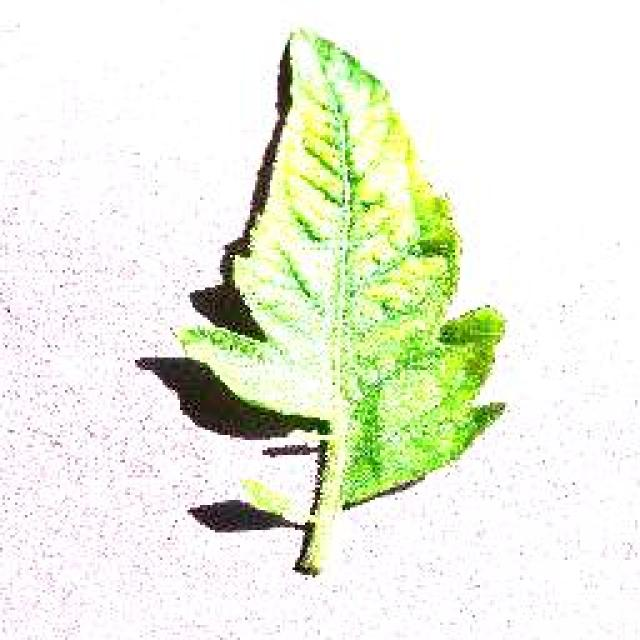Tomato___Tomato_mosaic_virus: (175, 30, 502, 572)
